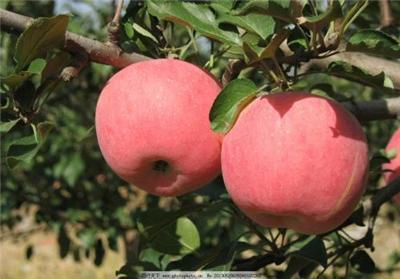apple: (222, 94, 371, 230), (95, 58, 226, 197)
